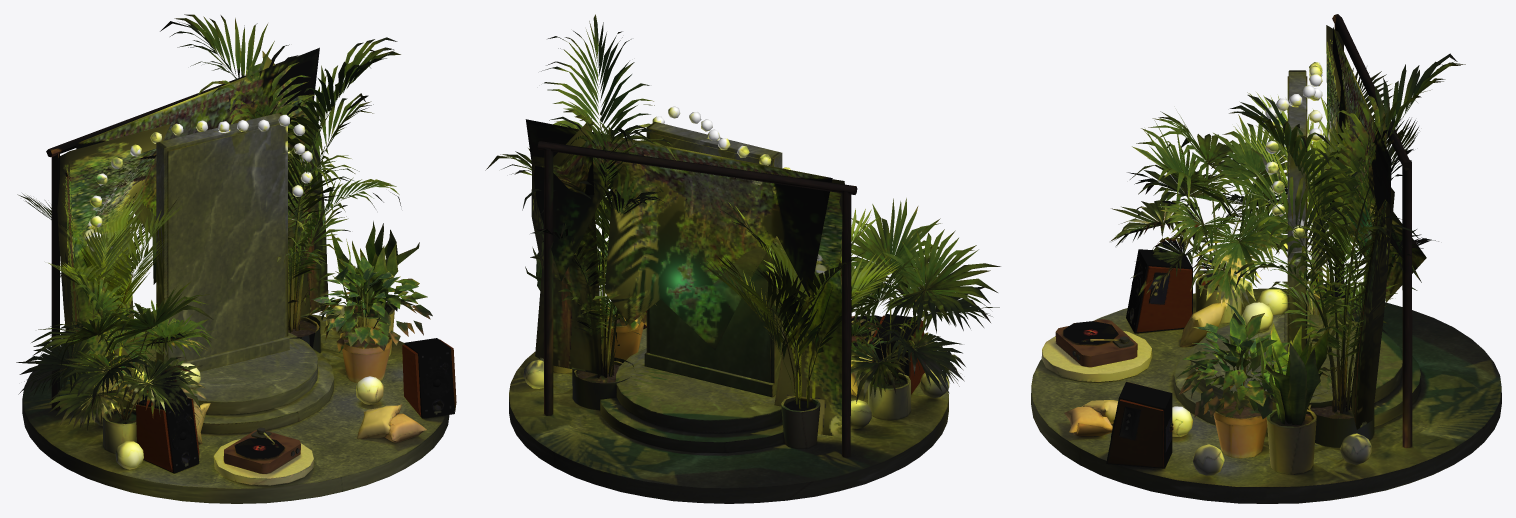
The model's file is tantsy8_e36a7880.glb.
The picture shows the model from 3 angles, left to right: view 1: azimuth 30°, elevation 25°; view 2: azimuth 150°, elevation 25°; view 3: azimuth 270°, elevation 25°; orthographic projection. The views are drawn at different scales.
Parts seen in each view (by area): view 1: Mesh_3; view 2: Mesh_3; view 3: Mesh_3.
Part boxes in pixels (left/top/right/bottom): Mesh_3: left=16, top=14, right=456, bottom=503; Mesh_3: left=485, top=14, right=1000, bottom=503; Mesh_3: left=1031, top=14, right=1501, bottom=503.
Bounding box in the file's own units: 1.68 × 1.38 × 1.5.
Materials: 1 (1 with a texture image).
